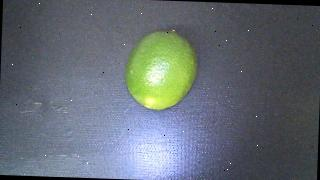EXPORTACION: (125, 29, 199, 111)
